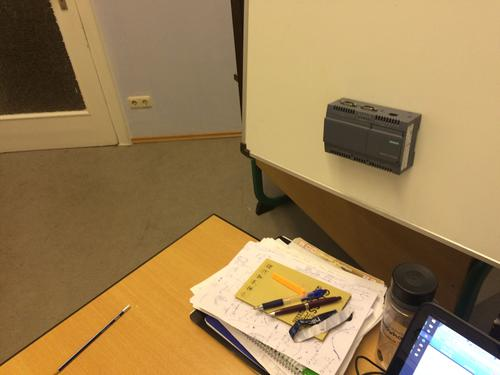iot2000: (322, 96, 422, 176)
